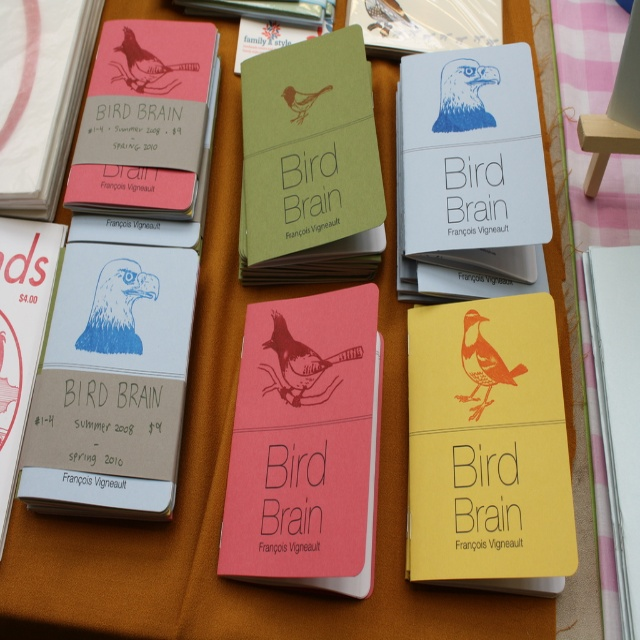Eagle: (76, 260, 159, 358), (431, 58, 502, 134)
